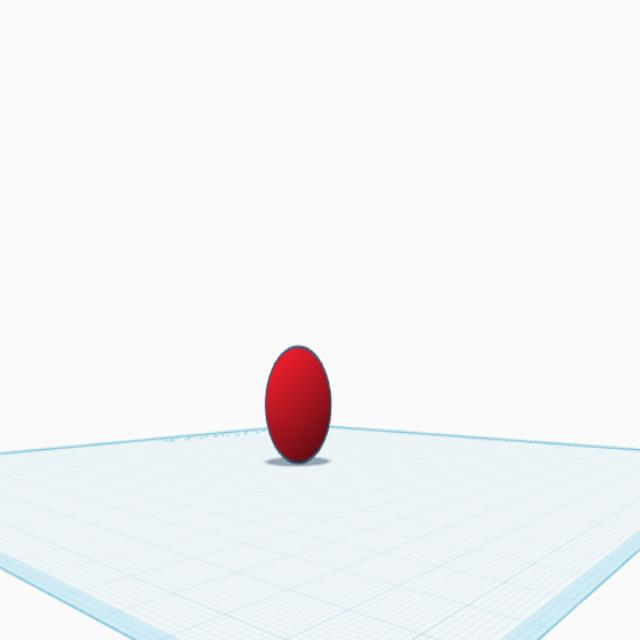sphere: (262, 342, 333, 469)
